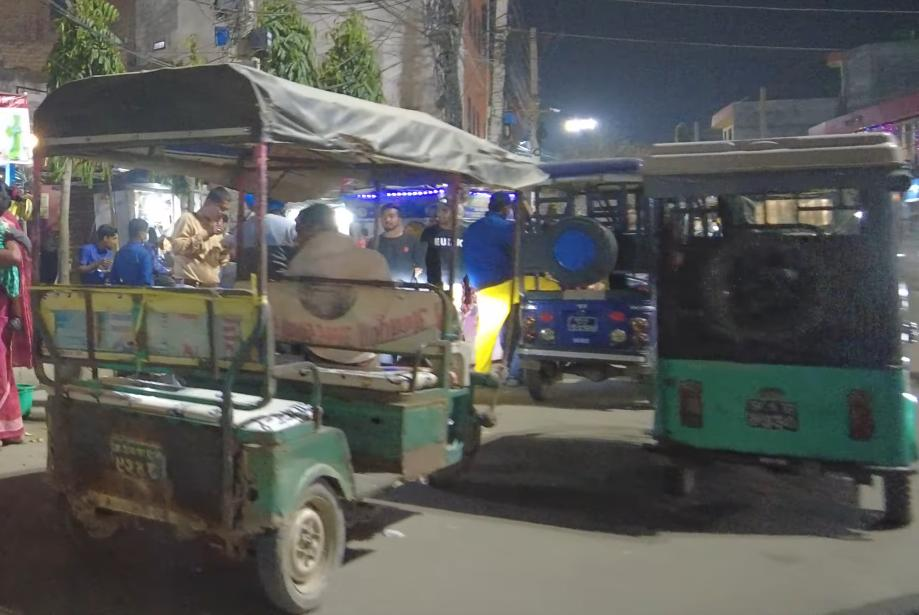e-rickshaw: (19, 53, 491, 608), (642, 128, 919, 520), (502, 133, 662, 413)
